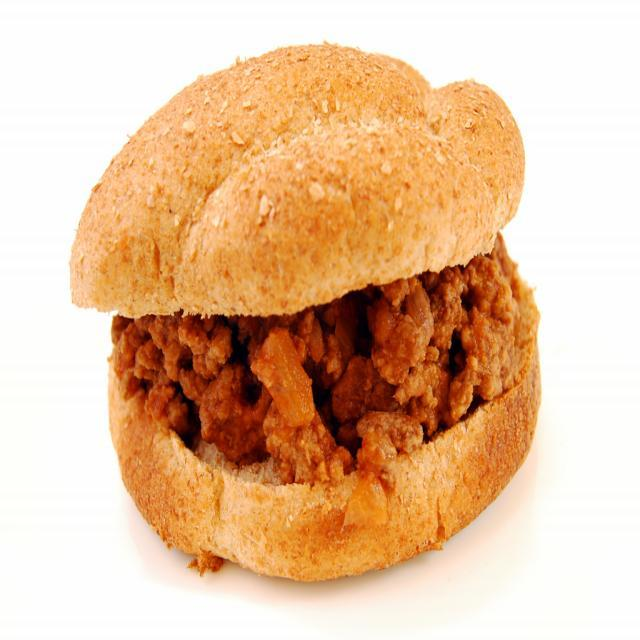Sandwich: (67, 37, 541, 585)
